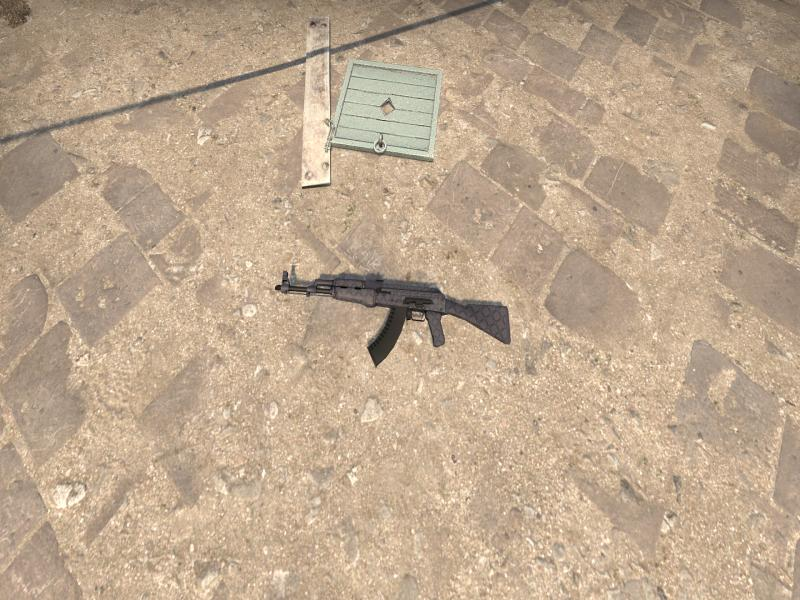AK47: (276, 270, 511, 366)
